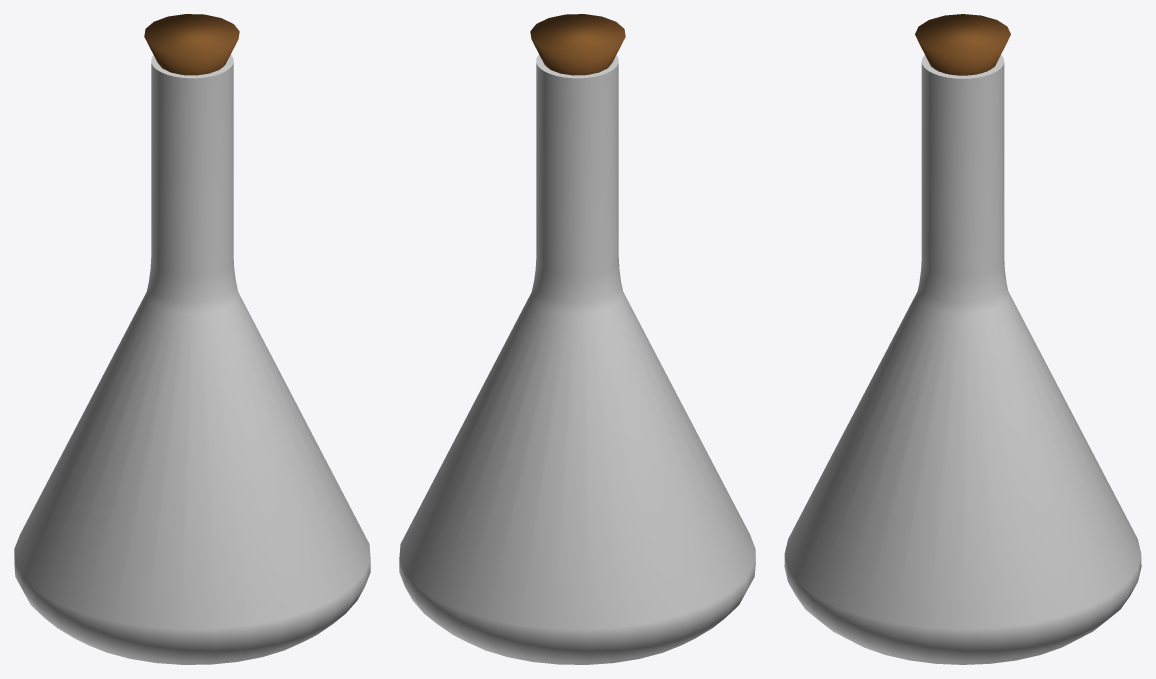
File: Potion.fbx
The picture shows the model from 3 angles, left to right: view 1: azimuth 30°, elevation 25°; view 2: azimuth 150°, elevation 25°; view 3: azimuth 270°, elevation 25°; orthographic projection.
Parts seen in each view (by area): view 1: Potion; view 2: Potion; view 3: Potion.
Boxes of the visible parts, x1,y1,x2,y2 form: Potion: [14, 14, 370, 664]; Potion: [399, 14, 755, 664]; Potion: [784, 14, 1141, 664].
Size of the model in its own units: 19.1 by 33.73 by 19.1.
